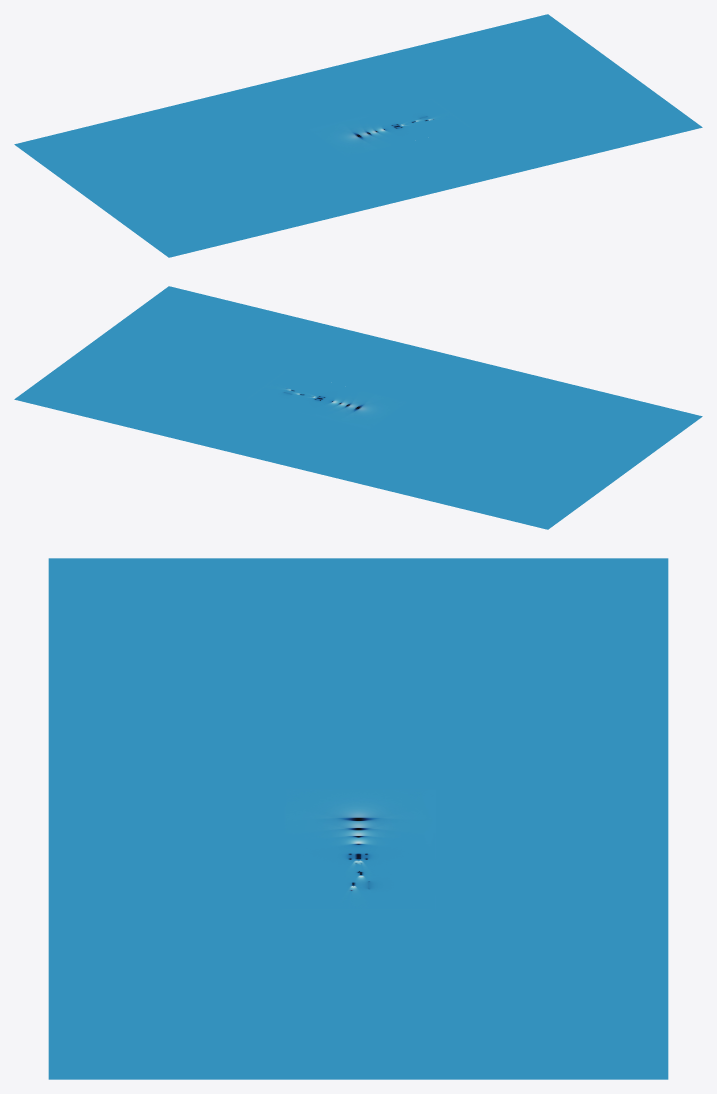
File: Ground.glb
The picture shows the model from 3 angles, top to bottom: view 1: azimuth 30°, elevation 25°; view 2: azimuth 150°, elevation 25°; view 3: azimuth 270°, elevation 25°; orthographic projection. The views are drawn at different scales.
Parts seen in each view (by area): view 1: Plane; view 2: Plane; view 3: Plane.
Part boxes in pixels (x1=…): Plane: x1=14, y1=14, x2=702, y2=257; Plane: x1=14, y1=286, x2=702, y2=529; Plane: x1=48, y1=558, x2=668, y2=1079.
Bounding box in the file's own units: 210 × 0 × 105.
2 materials, 1 textured.
